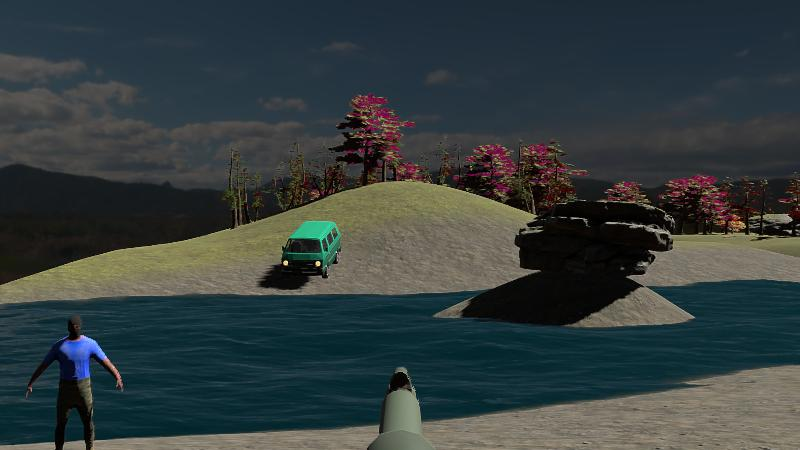Human: (27, 313, 122, 450)
car: (281, 221, 341, 279)
